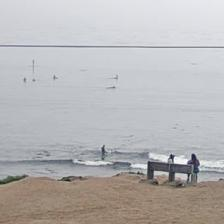surfer: (109, 75, 118, 80), (32, 59, 36, 67), (106, 86, 116, 89), (23, 77, 28, 82), (53, 75, 58, 80), (32, 78, 37, 82)
